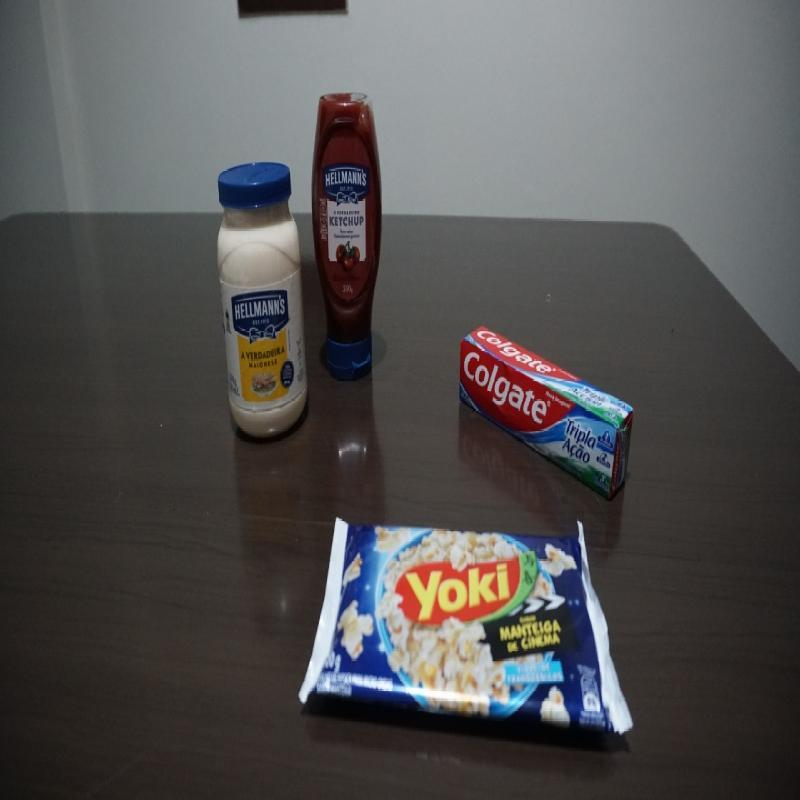Ketchup: (312, 93, 384, 382)
Mayonnaise: (216, 161, 306, 436)
Popcorn: (297, 517, 632, 740)
Toothpaste: (459, 324, 635, 497)
